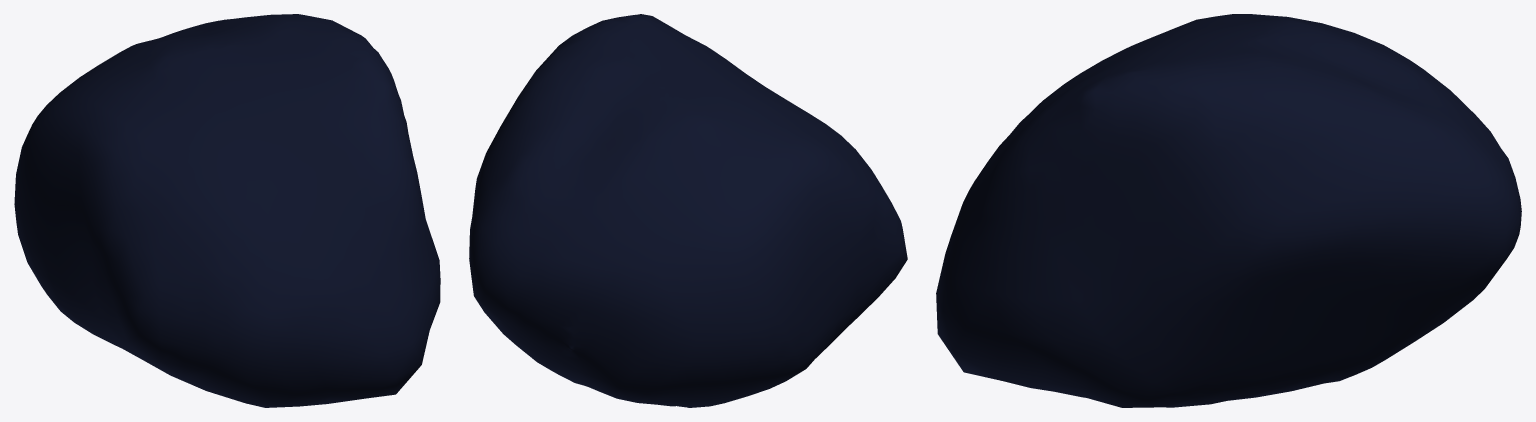
File: Rock.008.fbx
3 views of the same model, side by side, from view 1: azimuth 30°, elevation 25°; view 2: azimuth 150°, elevation 25°; view 3: azimuth 270°, elevation 25° (orthographic). The views are drawn at different scales.
Parts seen in each view (by area): view 1: Rock.007; view 2: Rock.007; view 3: Rock.007.
Part boxes in pixels (x1=…): Rock.007: x1=14, y1=14, x2=440, y2=407; Rock.007: x1=469, y1=14, x2=907, y2=407; Rock.007: x1=936, y1=14, x2=1521, y2=407.
Size of the model in its own units: 193 by 172 by 260.
